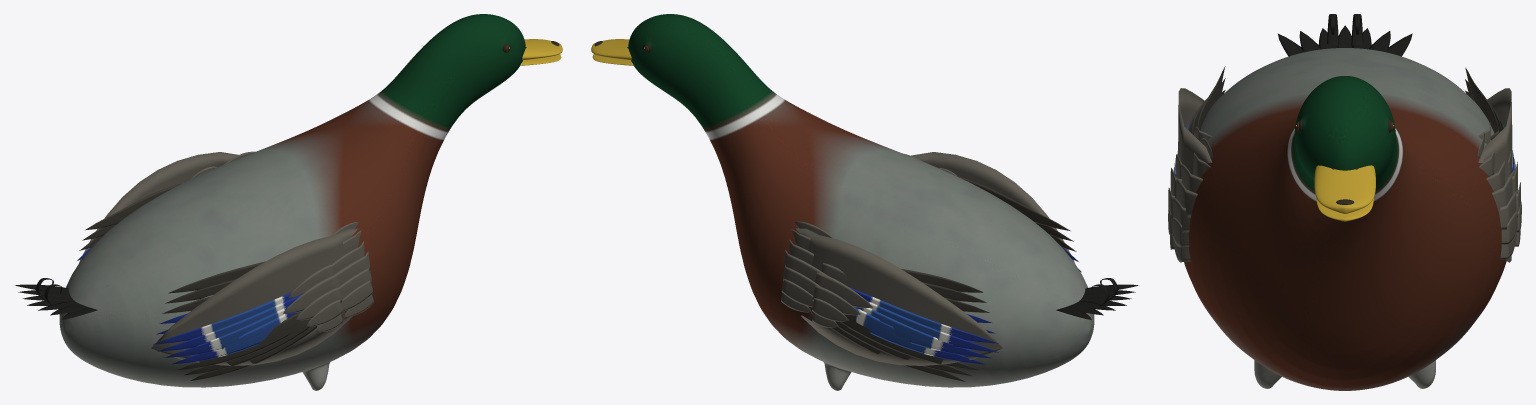
Rendered from mallard.glb.
3 views of the same model, side by side, from view 1: azimuth 30°, elevation 25°; view 2: azimuth 150°, elevation 25°; view 3: azimuth 270°, elevation 25° (orthographic). The views are drawn at different scales.
Visible parts, largest first — view 1: Body; view 2: Body; view 3: Body.
Part boxes in pixels (x1,y1,x2,y2): Body: (15,14,562,390); Body: (591,14,1138,390); Body: (1168,14,1521,390).
Size of the model in its own units: 0.57 by 0.3122 by 0.2311.
Materials: 11 (11 with a texture image).
